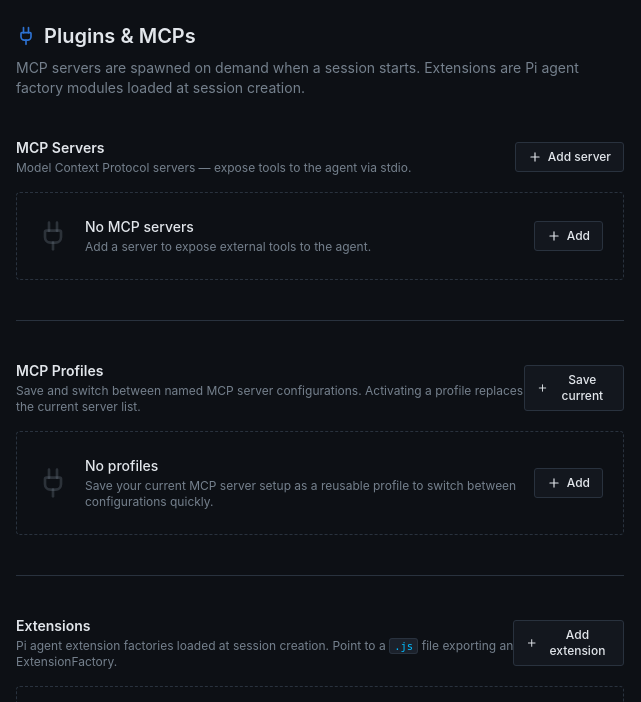
Scenario: PluginsPanel › adds an extension
The width and height of the screenshot is (641, 702).
Note: Click "Add extension" button
What coordinates should you click on to do the following:
click the button "Add extension"
I would click on:
 (569, 643)
Its box is [513,620,624,666].
(page scrolled)
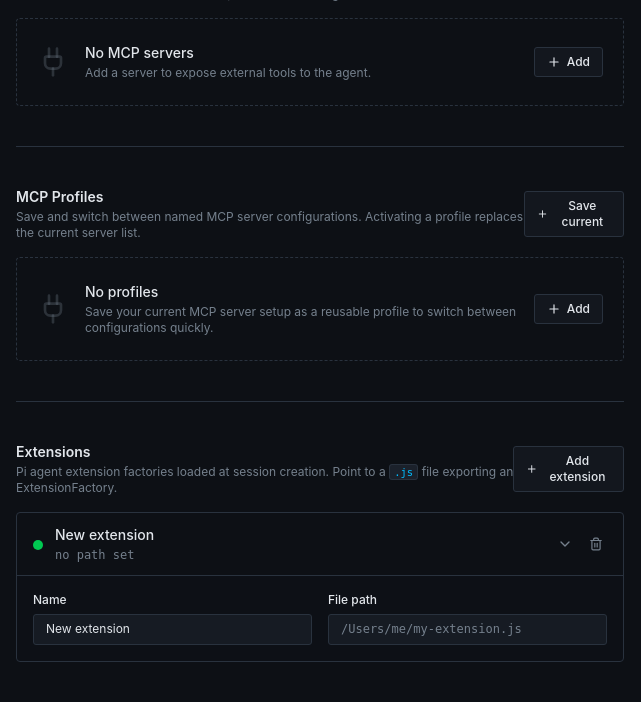
Result: the text "New extension" is shown at [55,526,154,543]
